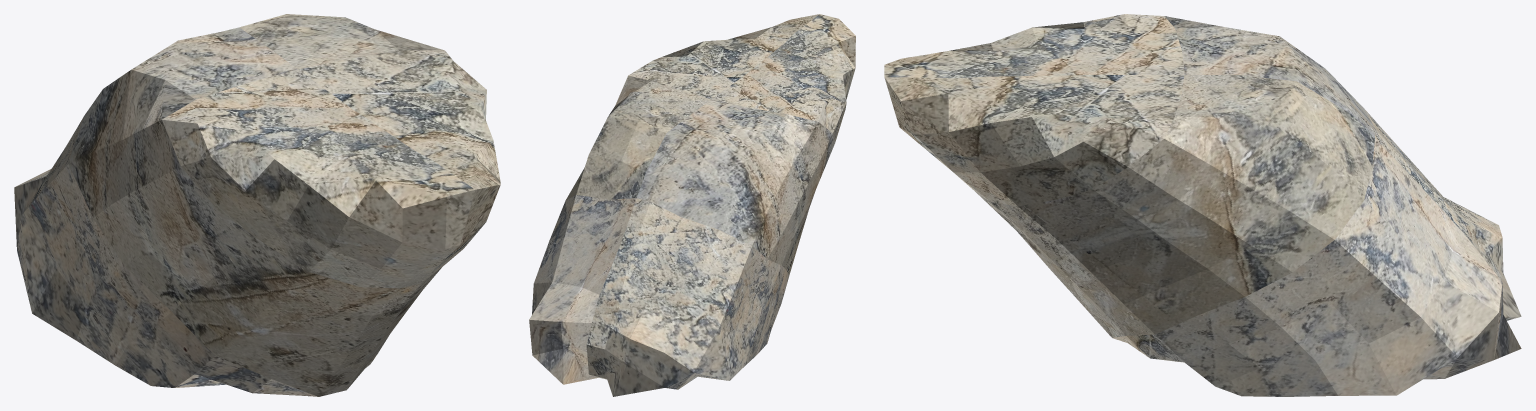
Rendered from Rock.fbx.
3 views of the same model, side by side, from view 1: azimuth 30°, elevation 25°; view 2: azimuth 150°, elevation 25°; view 3: azimuth 270°, elevation 25° (orthographic). The views are drawn at different scales.
Parts seen in each view (by area): view 1: Cube.001; view 2: Cube.001; view 3: Cube.001.
Boxes of the visible parts, bbox=[...] form: Cube.001: bbox=[14, 14, 500, 396]; Cube.001: bbox=[529, 14, 855, 396]; Cube.001: bbox=[884, 14, 1521, 396].
Bounding box in the file's own units: 200 × 209 × 432.
